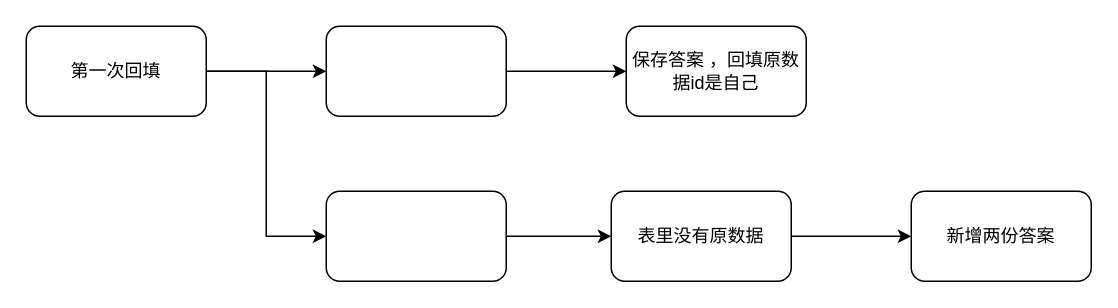
Some shapes in this 1118 by 308 pixel diagram are drawn without their labels. The centre of each missing label's shape, as x and y in pixels:
"不编辑" goes at point 415,70.
"编辑" goes at point 415,235.
